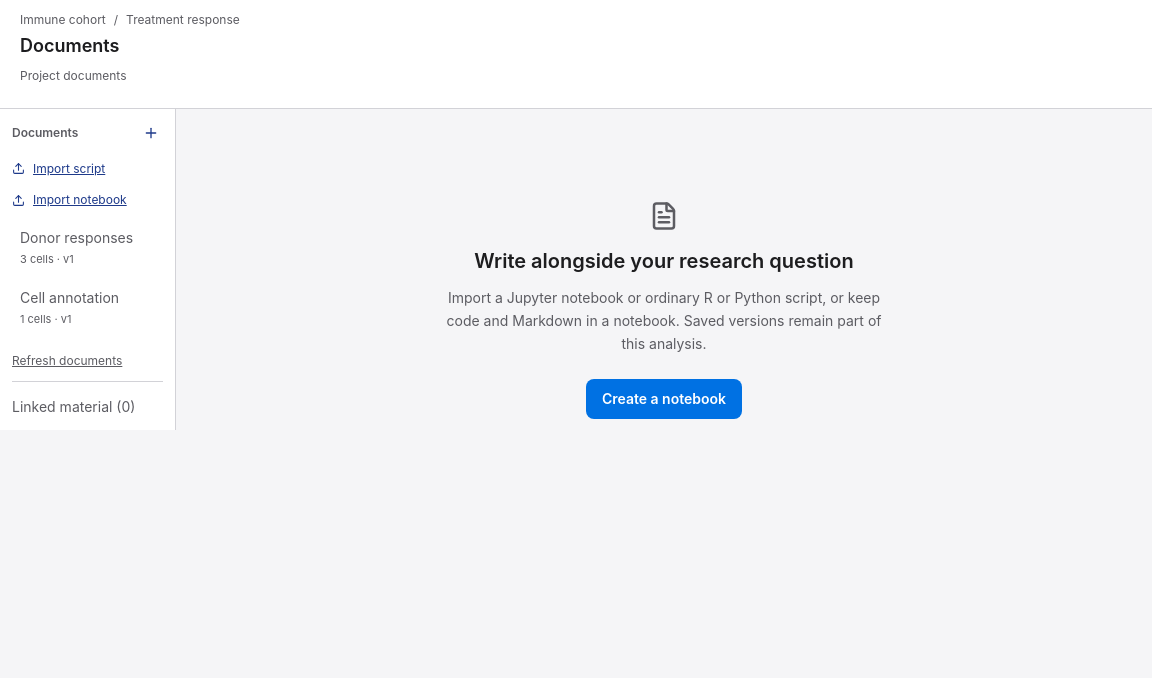
Test: private working-copy recovery presentation › reviews an existing private snapshot and restores it only after an explicit choice
Click the button "Donor responses 3 cells · v1" at (88,248), box [12,220,163,276]
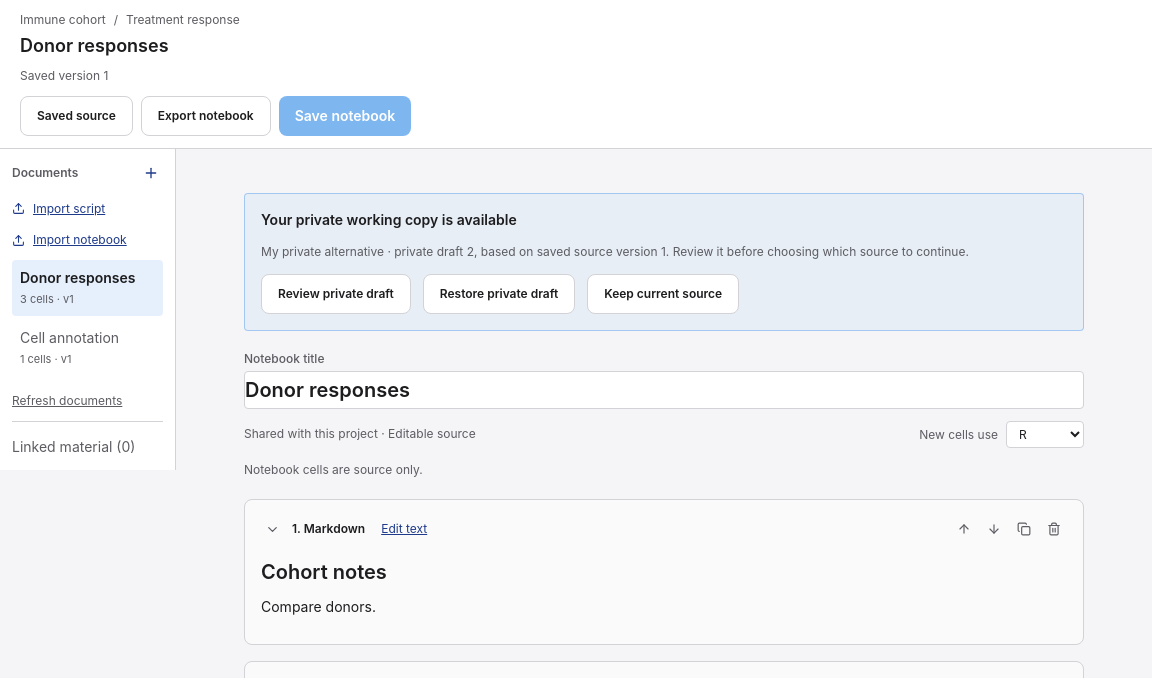
Expected: the field labelled "Notebook title" holds "Donor responses", [244,370,1084,408]
Click the button "Review private draft" at (336,294), box [261,274,411,314]
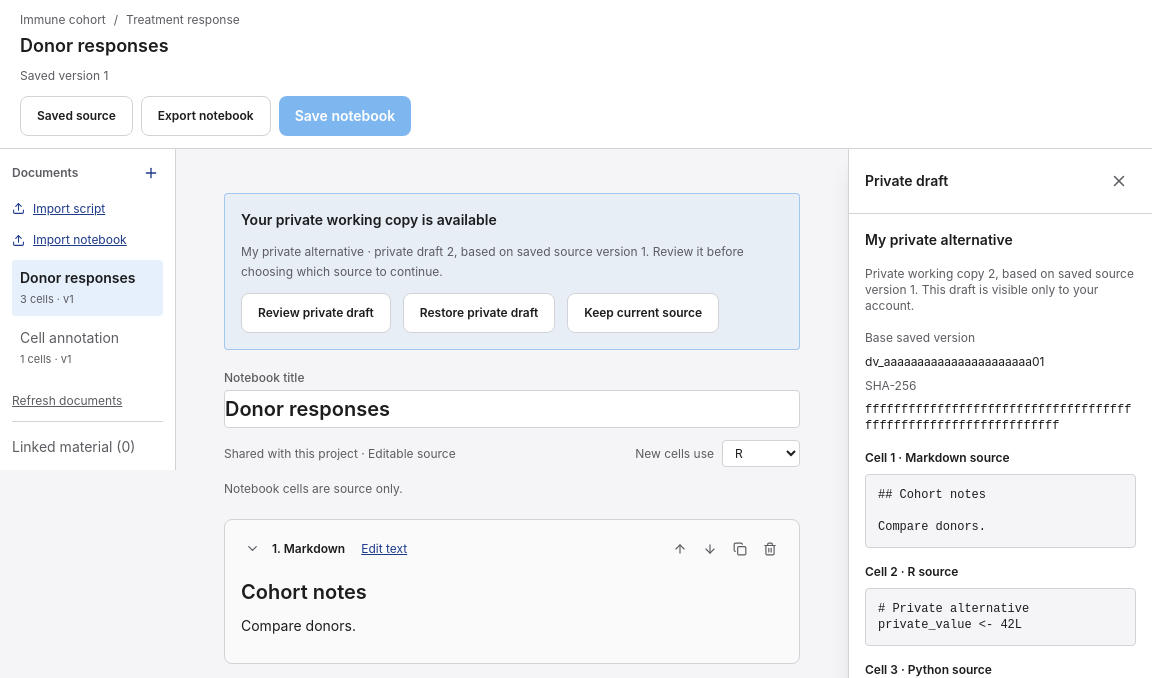
Expected: the text "This draft is visible only to your account" is shown, [865,282,1098,313]
Expected: the text "# Private alternative private_value <- 42L" is shown, [865,588,1136,646]
Click the button "Restore private draft" at (479,313), box [403,293,555,333]
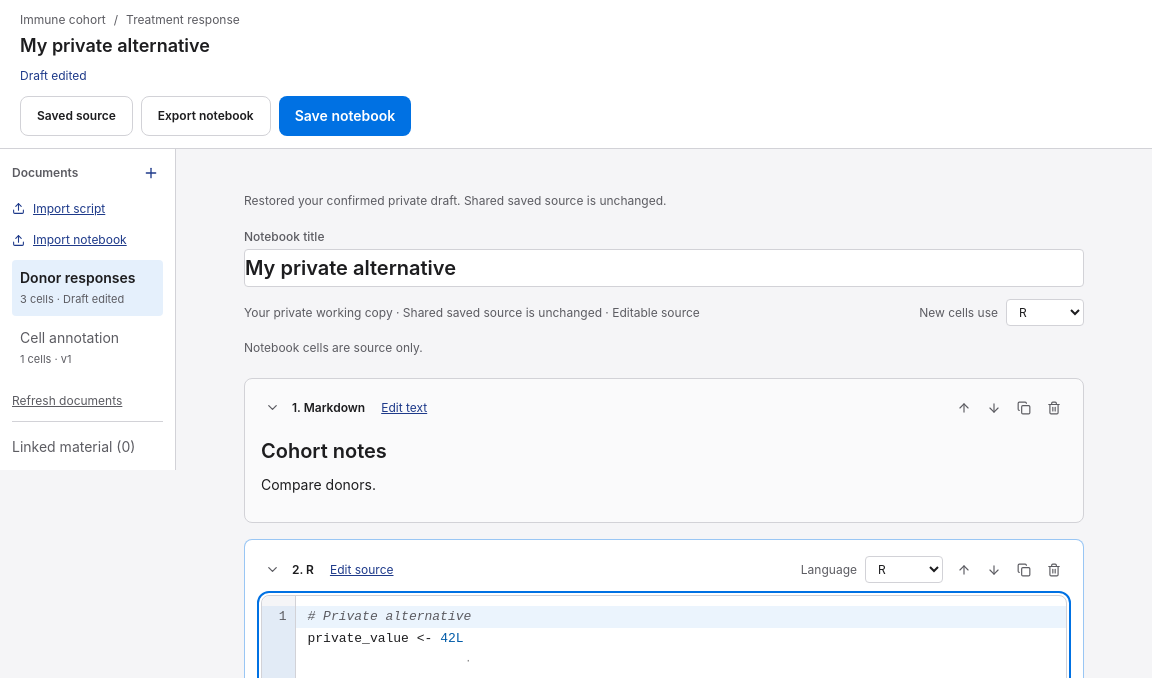
Expected: the field named "R cell 2 source" shows "private_value <- 42L", [296,606,1066,646]
Expected: the field labelled "Notebook title" holds "My private alternative", [244,249,1084,287]
Expected: the text "Your private working copy · Shared saved source is unchanged" is shown, [244,304,602,320]
